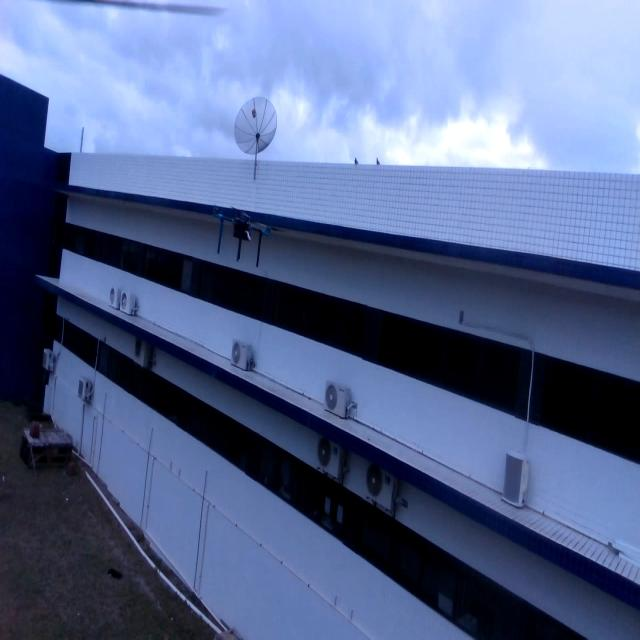-uav-: (209, 196, 269, 276)
